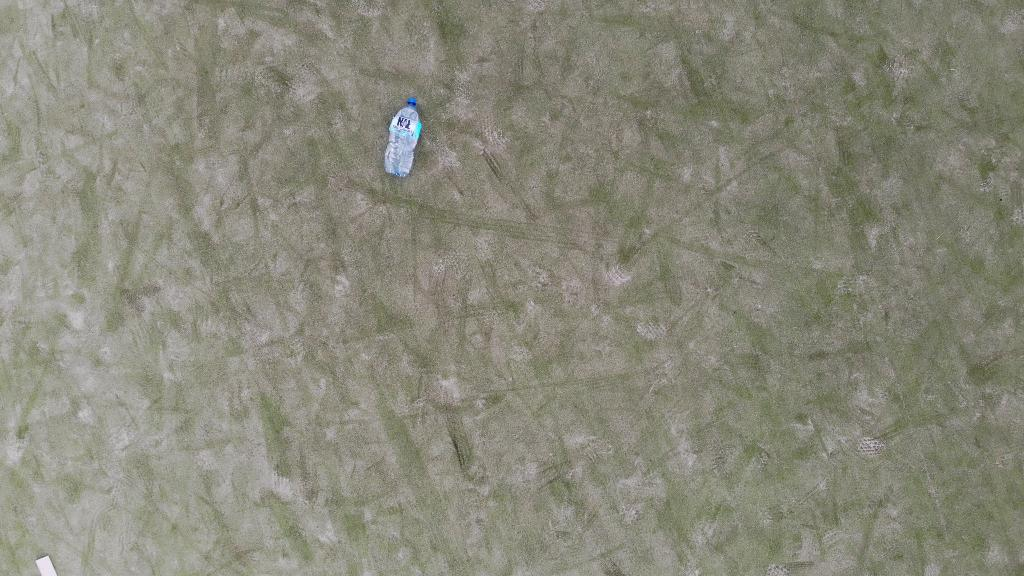garbage: (382, 94, 422, 176)
